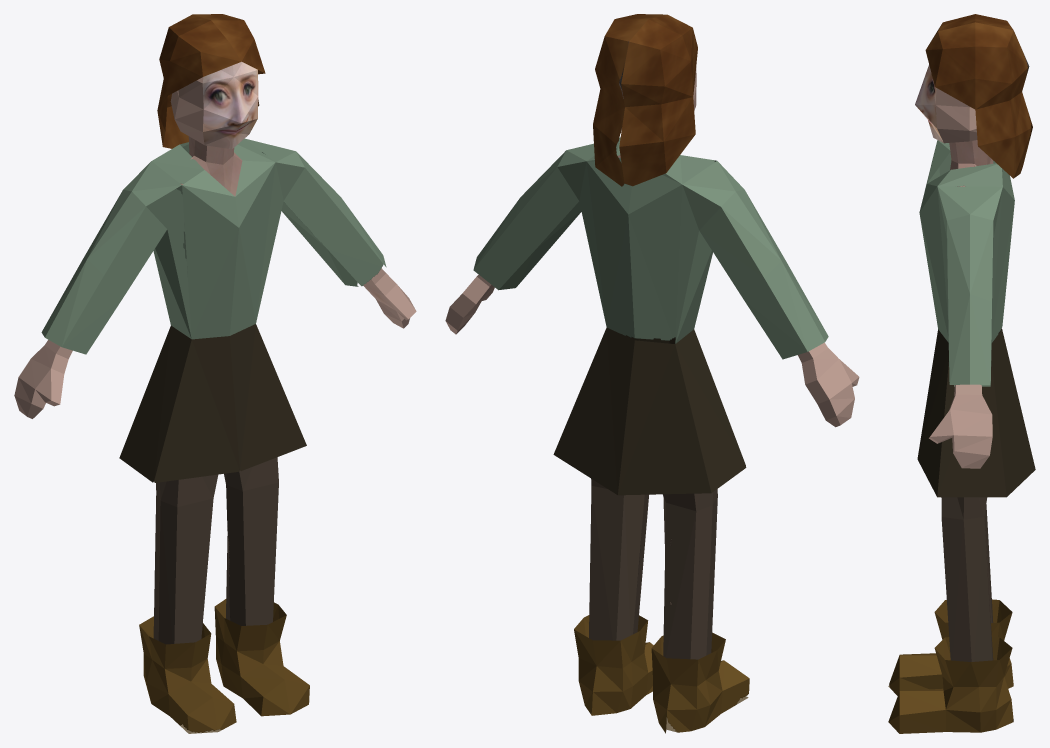
The model's file is FemalePeasant.fbx.
3 renders of one model, left to right at view 1: azimuth 30°, elevation 25°; view 2: azimuth 150°, elevation 25°; view 3: azimuth 270°, elevation 25°, orthographic. The views are drawn at different scales.
Parts seen in each view (by area): view 1: Cube.001, Cube.002, Cube, Cube.003, Cube.005; view 2: Cube.001, Cube.002, Cube, Cube.003, Cube.005; view 3: Cube.001, Cube, Cube.003, Cube.002, Cube.005.
Boxes of the visible parts, x1,y1,x2,y2 form: Cube.001: [41, 138, 386, 482]; Cube.002: [153, 457, 278, 644]; Cube: [157, 14, 265, 196]; Cube.003: [139, 599, 309, 733]; Cube.005: [14, 268, 416, 418]; Cube.001: [473, 137, 828, 495]; Cube.002: [589, 478, 717, 659]; Cube: [593, 14, 697, 186]; Cube.003: [574, 615, 749, 733]; Cube.005: [445, 274, 859, 427]; Cube.001: [917, 140, 1035, 497]; Cube: [915, 14, 1032, 186]; Cube.003: [888, 599, 1013, 733]; Cube.002: [941, 497, 993, 661]; Cube.005: [929, 384, 992, 468].
Bounding box in the file's own units: 1988 × 3345 × 656.
